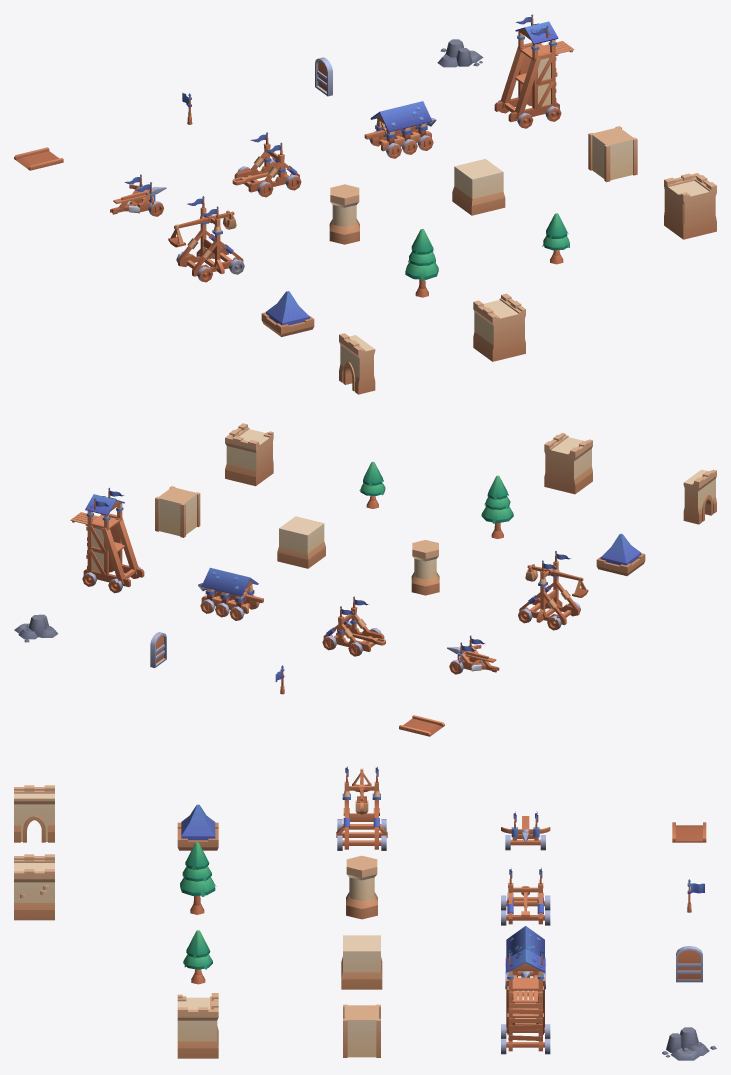
The model's file is animation.glb.
3 renders of one model, top to bottom at view 1: azimuth 30°, elevation 25°; view 2: azimuth 150°, elevation 25°; view 3: azimuth 270°, elevation 25°, orthographic. The views are drawn at different scales.
Visible parts, largest first — view 1: siege-tower, wall-corner, wall, tower-square-base, tower-square-mid, siege-trebuchet, siege-ram, wall-doorway, tower-hexagon-base, tower-square-top-roof, siege-catapult, tree-large (+5 smaller); view 2: siege-tower, wall-corner, wall, tower-square-base, tower-square-mid, siege-trebuchet, siege-ram, wall-doorway, tower-hexagon-base, tower-square-top-roof, siege-catapult, tree-large (+5 smaller); view 3: siege-tower, wall, wall-corner, tower-square-base, wall-doorway, tower-square-mid, tower-hexagon-base, siege-trebuchet, tree-large, tower-square-top-roof, siege-catapult, rocks-large (+5 smaller).
Part boxes in pixels (x1,y1,x2,y2): siege-tower: [494, 14, 574, 121]; wall-corner: [664, 173, 716, 239]; wall: [473, 293, 525, 361]; tower-square-base: [452, 159, 505, 215]; tower-square-mid: [588, 126, 637, 182]; siege-trebuchet: [178, 196, 243, 276]; siege-ram: [370, 101, 432, 151]; wall-doorway: [339, 333, 375, 394]; tower-hexagon-base: [329, 184, 359, 244]; tower-square-top-roof: [261, 291, 314, 336]; siege-catapult: [234, 132, 299, 192]; tree-large: [405, 229, 438, 297]; siege-tower: [70, 487, 144, 586]; wall-corner: [225, 423, 273, 486]; wall: [544, 433, 592, 494]; tower-square-base: [277, 516, 325, 568]; tower-square-mid: [155, 486, 200, 537]; siege-trebuchet: [519, 551, 579, 625]; siege-ram: [201, 567, 258, 613]; wall-doorway: [683, 469, 716, 524]; tower-hexagon-base: [411, 540, 439, 595]; tower-square-top-roof: [596, 533, 645, 575]; siege-catapult: [323, 596, 384, 651]; tree-large: [481, 475, 513, 538]; siege-tower: [506, 949, 545, 1051]; wall: [14, 854, 54, 920]; wall-corner: [177, 993, 218, 1058]; tower-square-base: [341, 935, 382, 989]; wall-doorway: [14, 785, 54, 842]; tower-square-mid: [343, 1004, 380, 1057]; tower-hexagon-base: [346, 855, 377, 919]; siege-trebuchet: [336, 766, 387, 849]; tree-large: [180, 842, 216, 914]; tower-square-top-roof: [177, 804, 218, 850]; siege-catapult: [506, 867, 544, 924]; rocks-large: [662, 1027, 716, 1060].
Bounding box in the file's own units: 14.1 × 2.83 × 17.17.
Materials: 18 (18 with a texture image).
